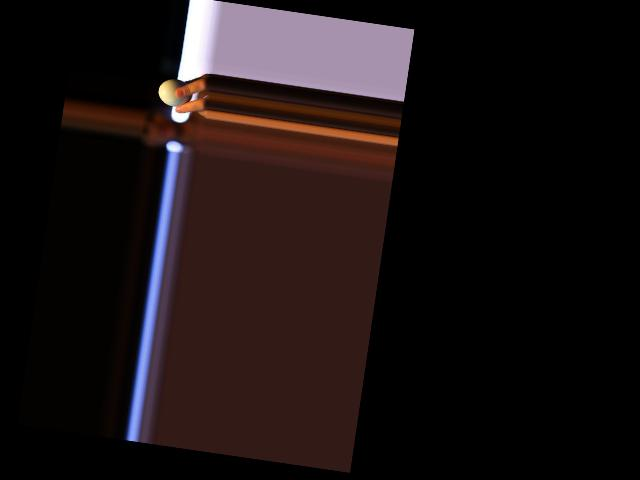egg: (156, 77, 194, 109)
